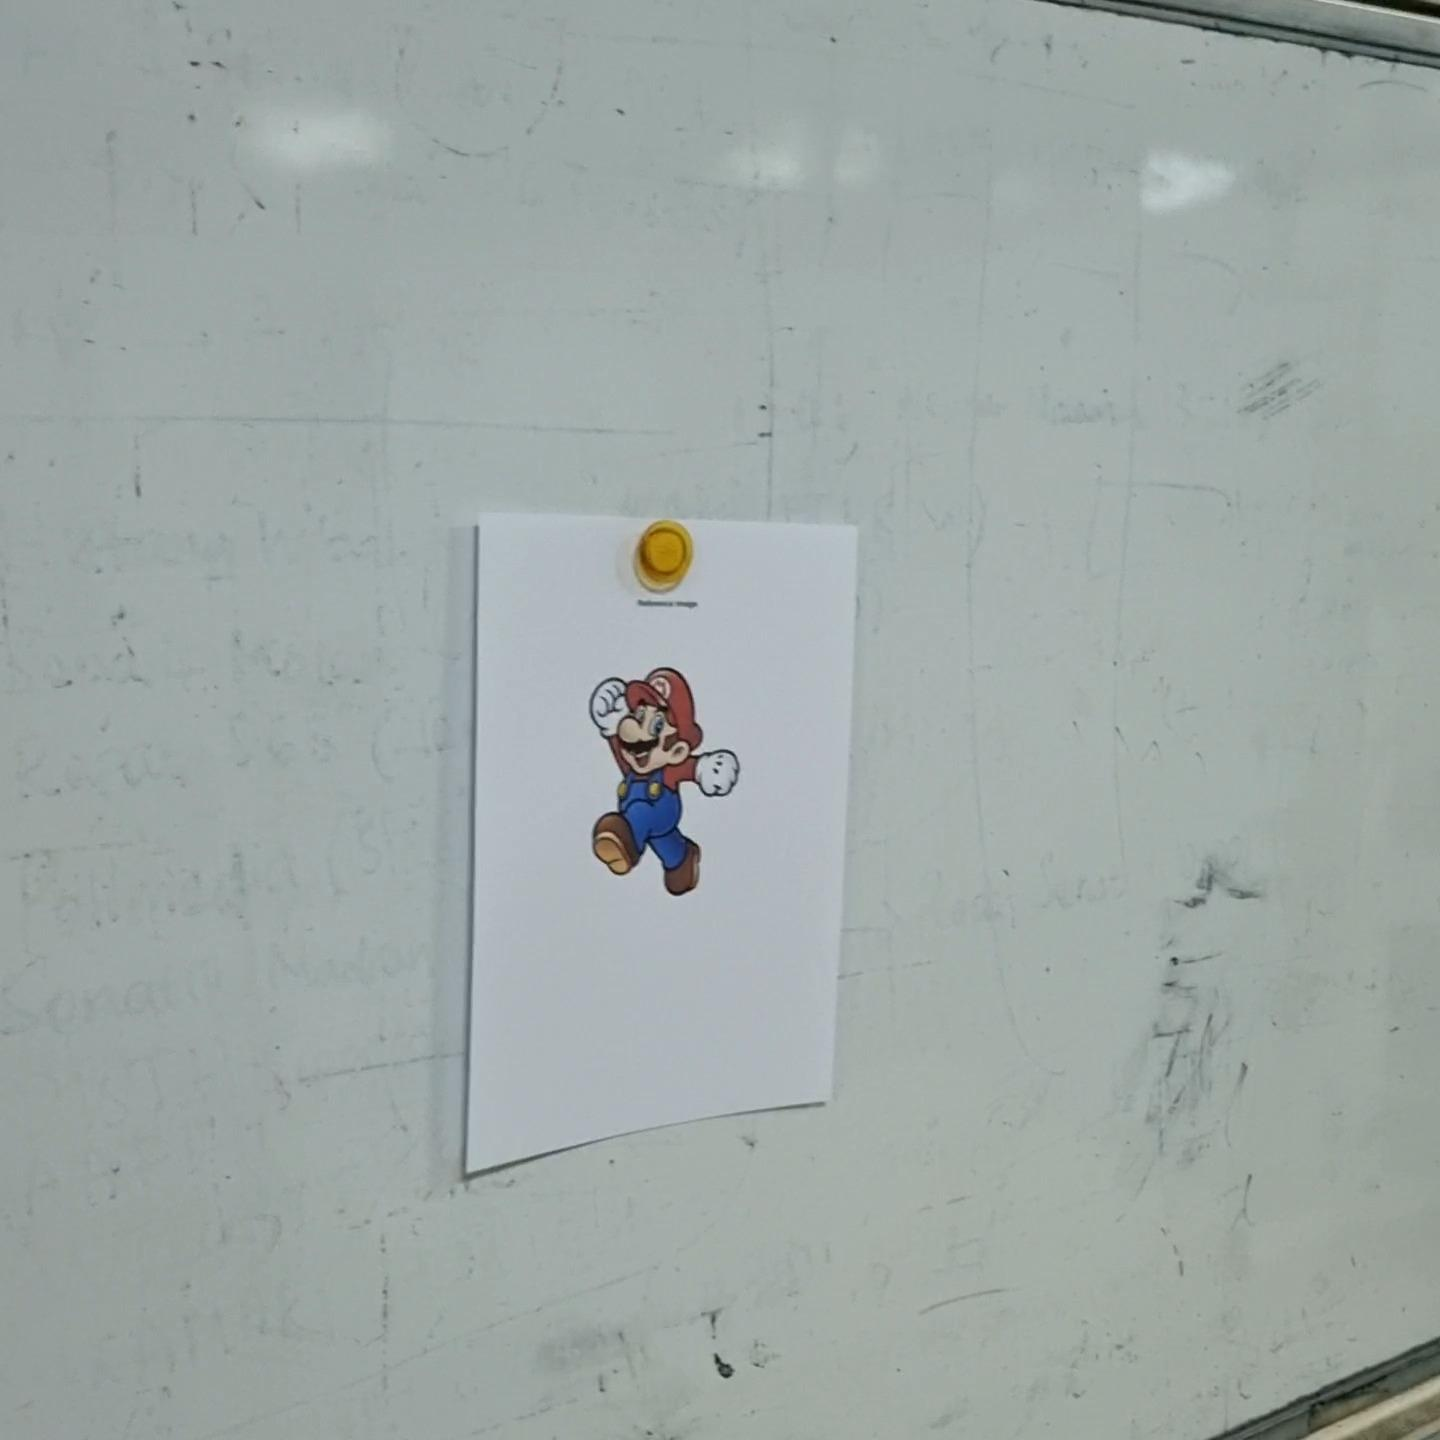mario: (580, 657, 748, 898)
